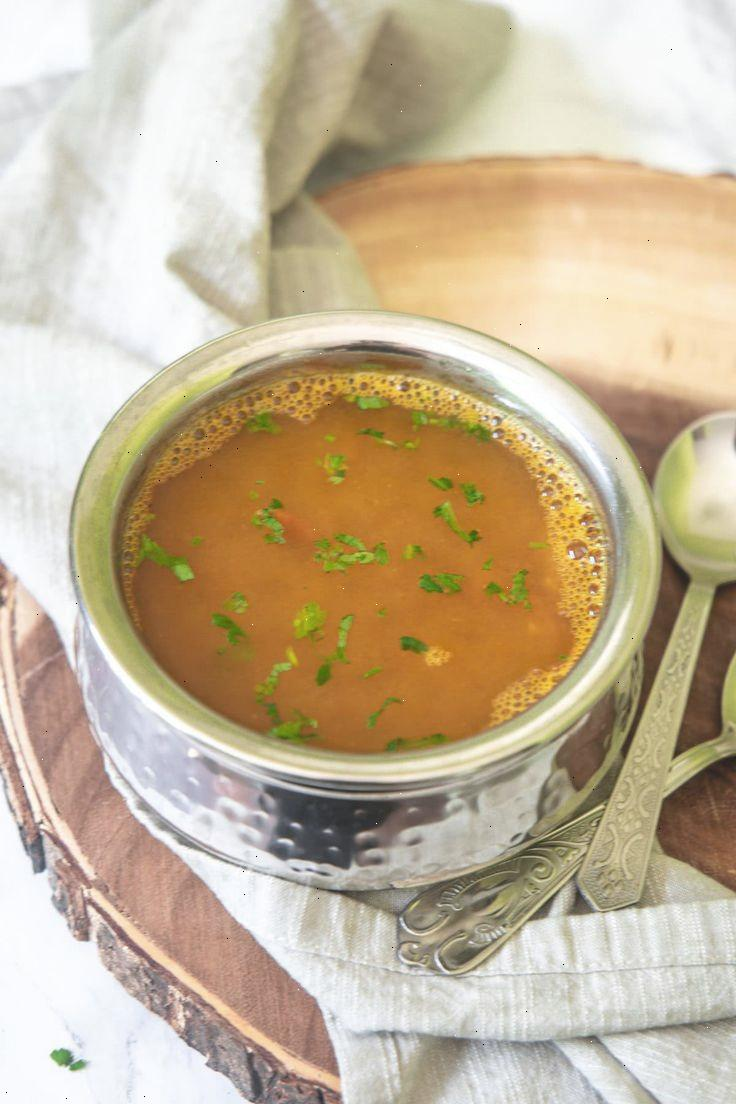daal: (113, 362, 644, 761)
